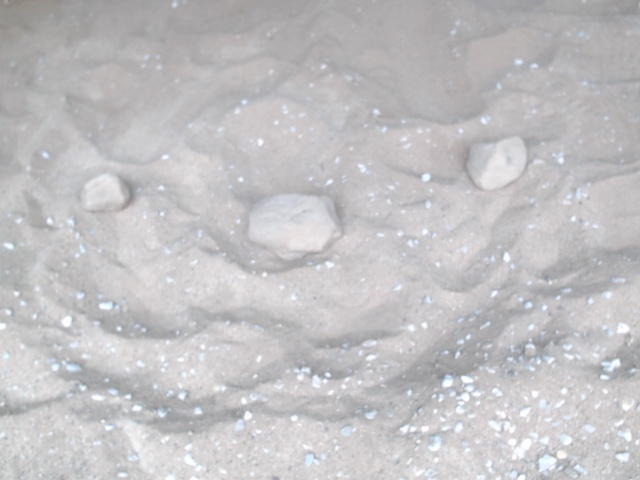rock: (242, 186, 346, 265), (460, 133, 531, 195), (76, 169, 134, 218)
